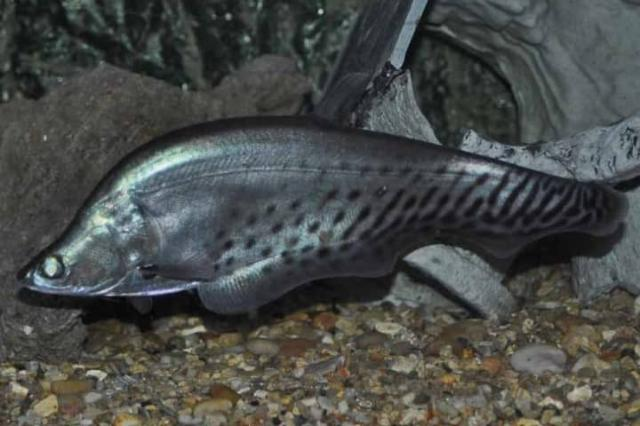Mulut: (12, 249, 110, 307)
Sirip Dada: (140, 248, 236, 298)
Sirip Punggung: (308, 61, 376, 134)
